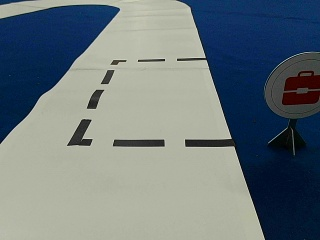company: (264, 51, 319, 117)
